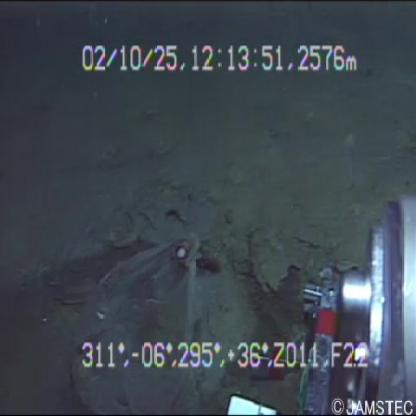Rov: (218, 152, 416, 412)
Rác: (40, 219, 222, 415)
